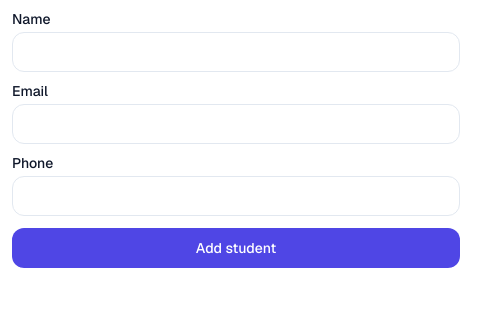
StudentForm › shows an error message when the create request fails
The image size is (477, 317).
In the field labelled "Name": (236, 52) [12,32,460,72], type "Alex Example"
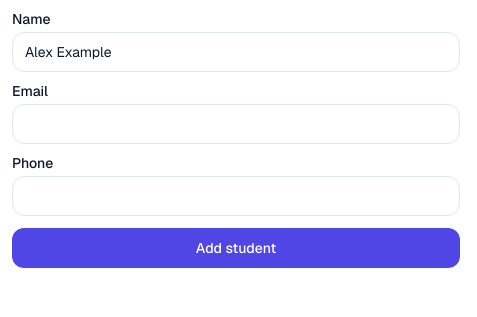
Click the button "Add student": (236, 248) [12,228,460,268]
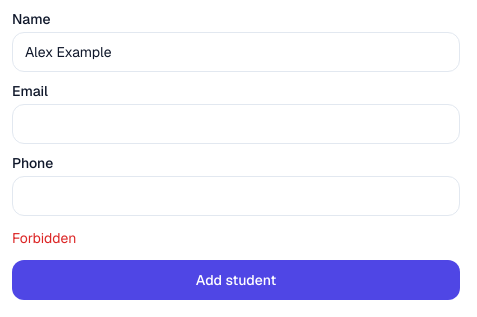
Now the text "Forbidden" is shown, box [12,229,76,247]
